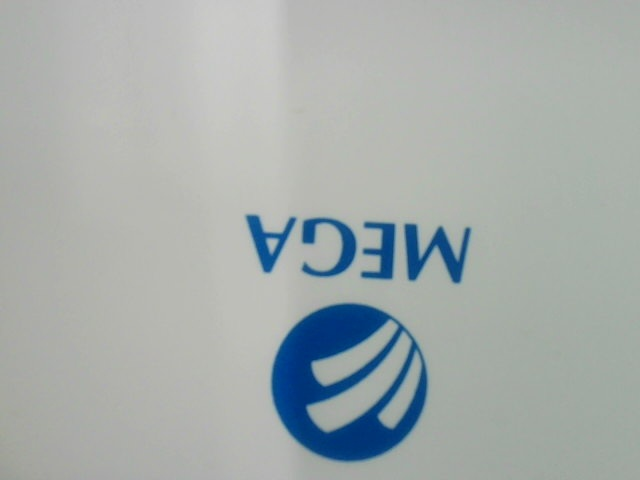AM_ZTEMEGA: (223, 201, 491, 472)
